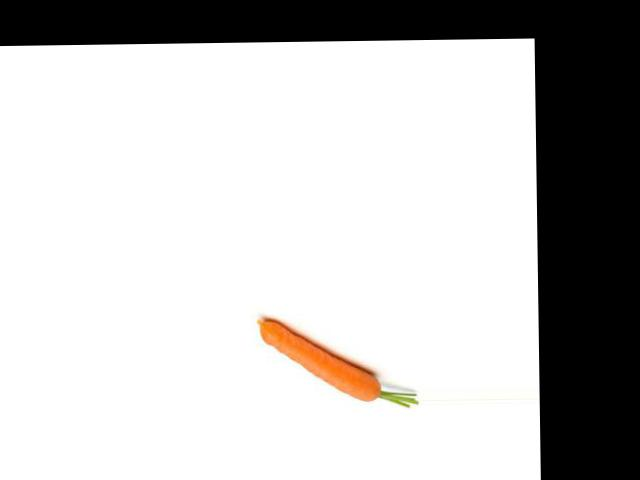carrot: (256, 317, 384, 403)
